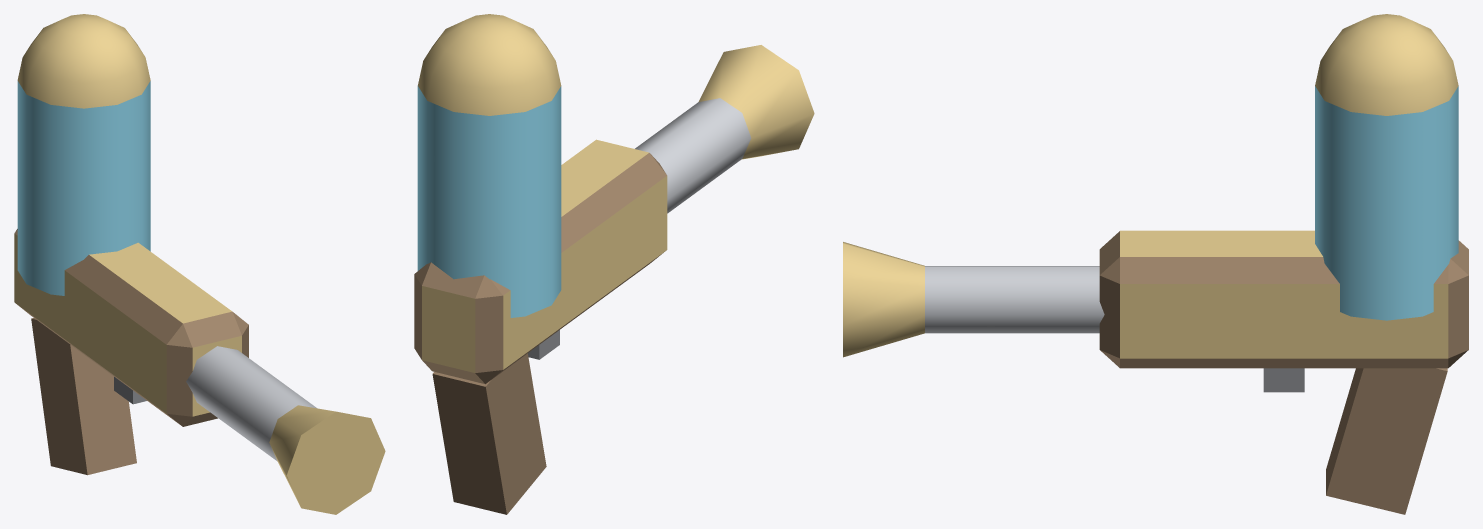
The model's file is hd_sprayer.glb.
3 views of the same model, side by side, from view 1: azimuth 30°, elevation 25°; view 2: azimuth 150°, elevation 25°; view 3: azimuth 270°, elevation 25° (orthographic). The views are drawn at different scales.
Parts seen in each view (by area): view 1: hd_sprayer; view 2: hd_sprayer; view 3: hd_sprayer.
Part boxes in pixels (left/top/right/bottom): hd_sprayer: left=14, top=14, right=385, bottom=514; hd_sprayer: left=414, top=14, right=814, bottom=514; hd_sprayer: left=843, top=14, right=1468, bottom=514.
Bounding box in the file's own units: 0.14 × 0.5176 × 0.61.
